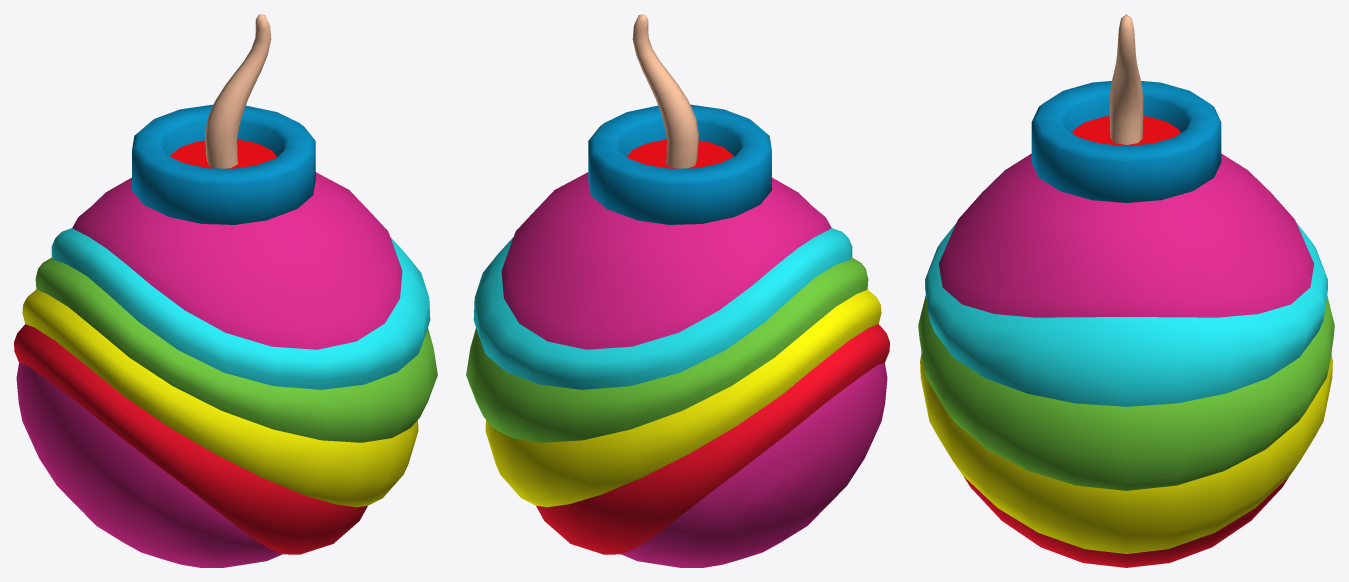
Rendered from sweet_bomb_001.glb.
3 views of the same model, side by side, from view 1: azimuth 30°, elevation 25°; view 2: azimuth 150°, elevation 25°; view 3: azimuth 270°, elevation 25° (orthographic). The views are drawn at different scales.
Parts seen in each view (by area): view 1: sweet_bomb_001; view 2: sweet_bomb_001; view 3: sweet_bomb_001.
Part boxes in pixels (x1,y1,x2,y2): sweet_bomb_001: [14, 14, 437, 567]; sweet_bomb_001: [466, 14, 889, 567]; sweet_bomb_001: [918, 14, 1334, 567].
Size of the model in its own units: 4.49 by 6.09 by 4.27.
1 material, 1 textured.
